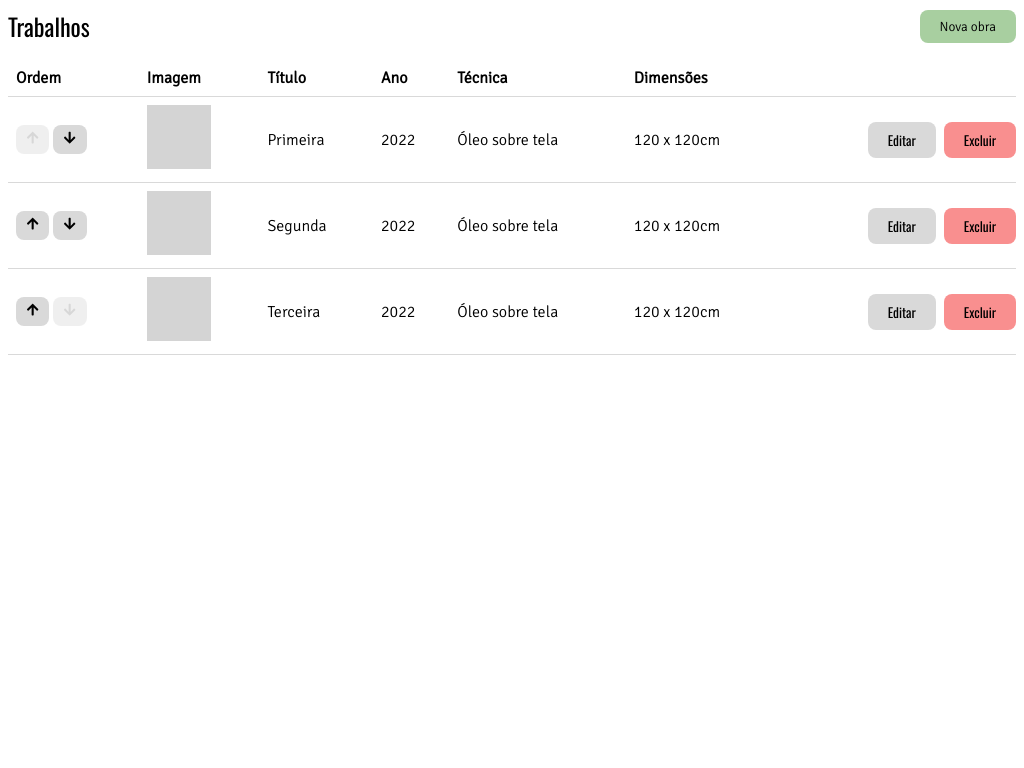
Test: reloads and shows the error when a move fails halfway
expect the text "Primeira" is shown: met, box x1=260 y1=96 x2=373 y2=182
Click the button named "Mover Primeira para baixo": (70, 139) x1=53 y1=125 x2=87 y2=154
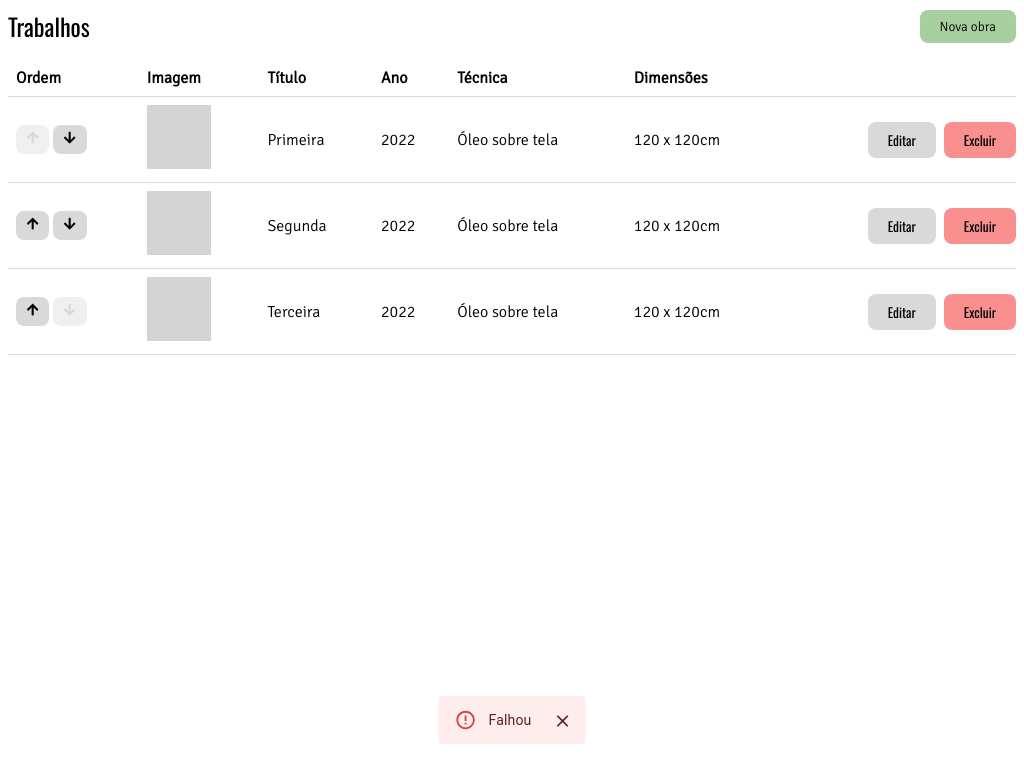
expect the text "Falhou" is shown: met, box x1=489 y1=712 x2=531 y2=728
